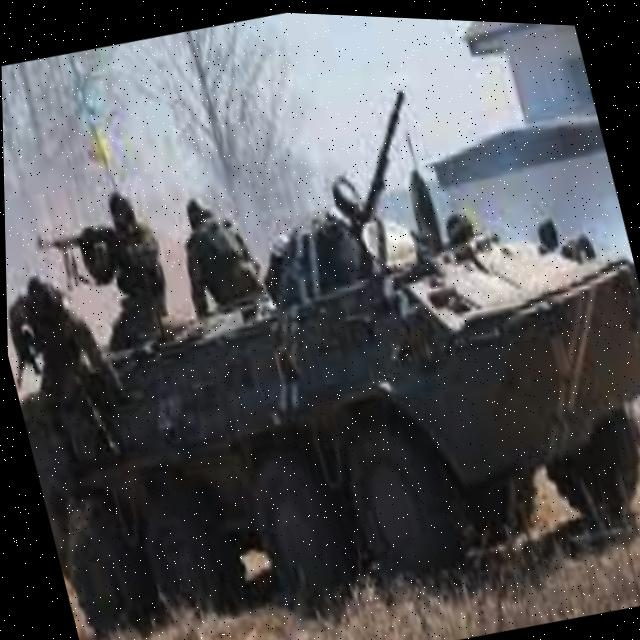MIL_APC: (2, 111, 640, 640)
